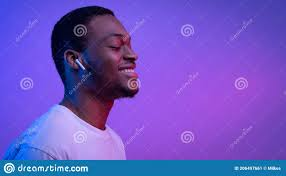earphone: (64, 50, 83, 70)
